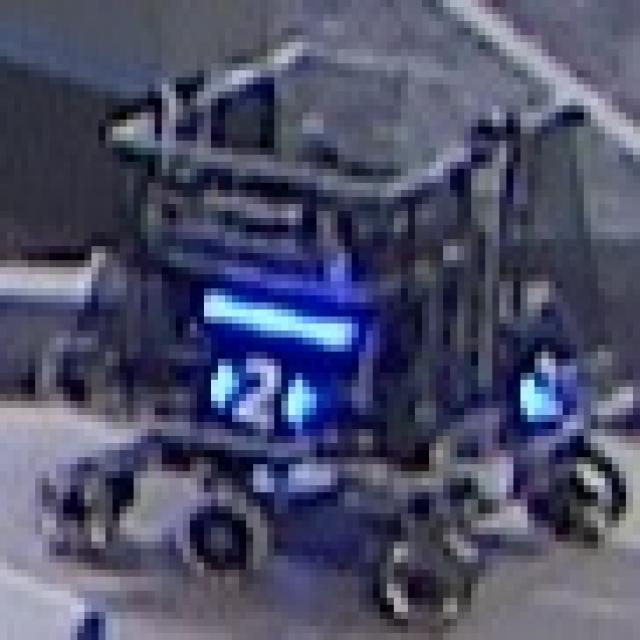B2: (204, 352, 309, 436), (513, 338, 577, 429)
